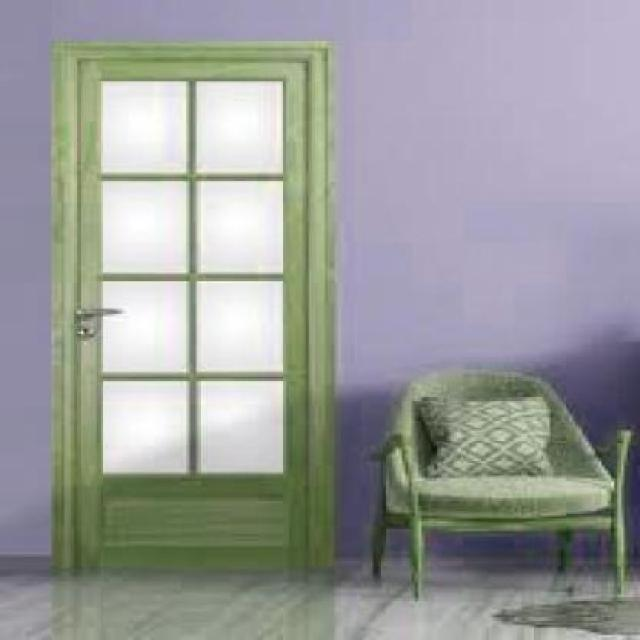door_handle: (70, 301, 132, 325)
